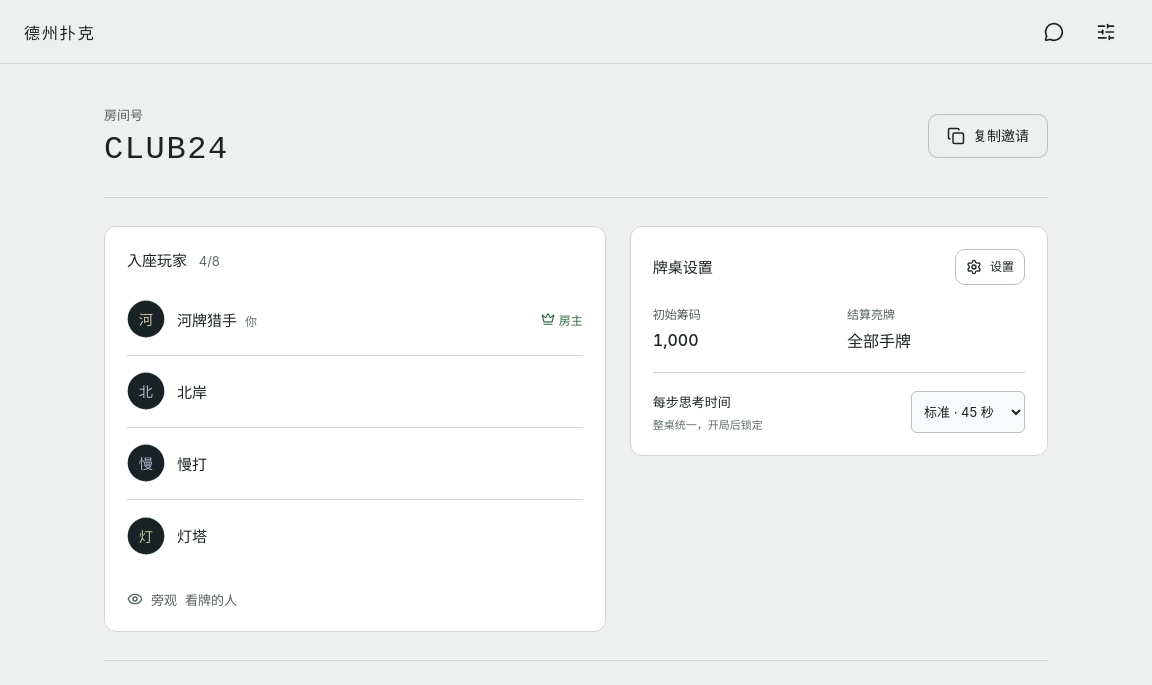
Test: LobbyScreen › disables invalid chip settings
Click the button "设置": {"x": 990, "y": 267} top-left (955, 249), bottom-right (1025, 285)
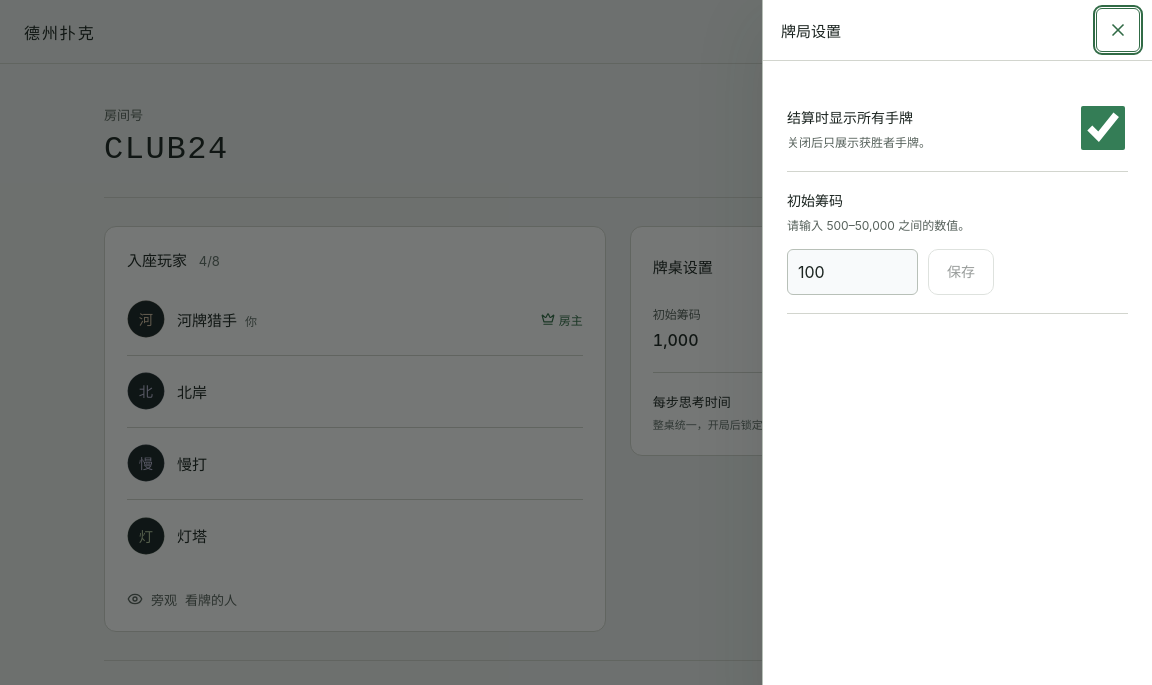
Check: the button "保存" is disabled, box top-left (928, 249), bottom-right (994, 295)
Check: the text "请输入 500–50,000 之间的数值。" is shown, box top-left (787, 216), bottom-right (994, 233)
